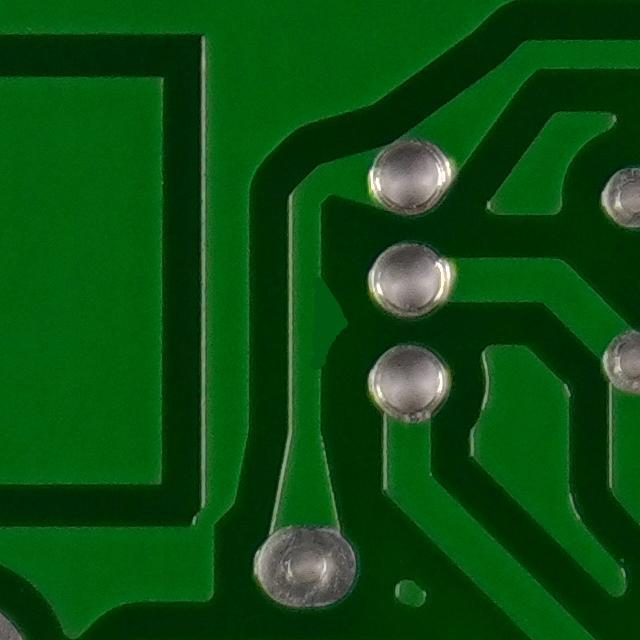spur: (280, 260, 361, 381)
